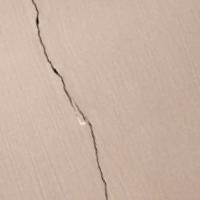crack: (28, 0, 109, 198)
